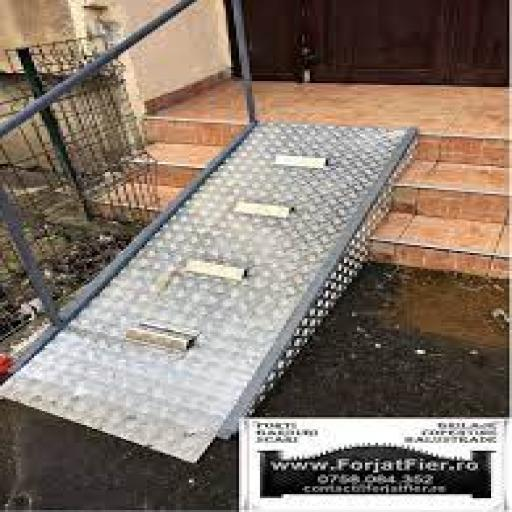ramp: (1, 124, 416, 460)
stairs: (367, 132, 512, 278), (85, 115, 248, 223)
